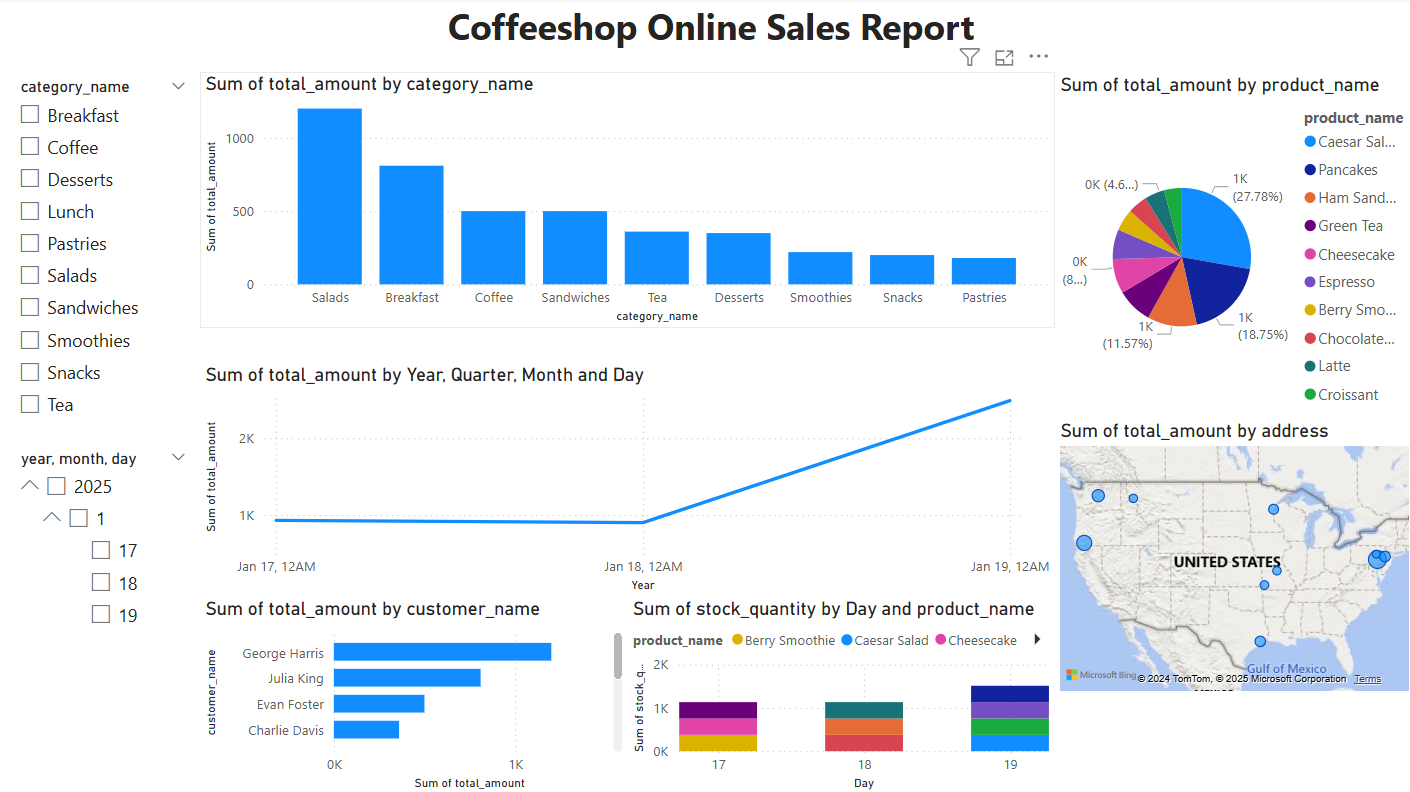

Layout of this report page (visuals, bound fields, positions):
{"tool":"powerbi","page":{"name":"Page 1","canvas":[1280,720],"ordinal":0},"visuals":[{"type":"textbox","box":[9.6,0,1270.7,67.2],"z":0},{"type":"slicer","fields":{"Values":["public dim_category.category_name"]},"box":[10,67.1,174.3,335.7],"z":1000},{"type":"slicer","fields":{"Values":["public dim_date.year","public dim_date.month","public dim_date.day"]},"box":[10,402.9,174.3,200],"z":2000},{"type":"clusteredColumnChart","fields":{"Y":["public fact_sales.total_amount"],"Category":["public dim_category.category_name"]},"box":[184.3,67.1,771.4,231.4],"z":3000},{"type":"lineChart","fields":{"Y":["public fact_sales.total_amount"],"Category":["public dim_date.date.Variation.Date Hierarchy.Year","public dim_date.date.Variation.Date Hierarchy.Quarter","public dim_date.date.Variation.Date Hierarchy.Month","public dim_date.date.Variation.Date Hierarchy.Day"]},"box":[184.3,330,771.4,211.4],"z":4000},{"type":"pieChart","fields":{"Y":["public fact_sales.total_amount"],"Category":["public dim_product.product_name"]},"box":[955.7,68.6,324.3,312.9],"z":5000},{"type":"clusteredBarChart","fields":{"Y":["public fact_sales.total_amount"],"Category":["public dim_customer.customer_name"]},"box":[184.3,541.4,385.7,178.6],"z":6000},{"type":"map","fields":{"Category":["public dim_customer.address"],"Size":["public fact_sales.total_amount"]},"box":[955.7,381.4,324.3,250],"z":7000},{"type":"lineStackedColumnComboChart","fields":{"Category":["public dim_date.date.Variation.Date Hierarchy.Day"],"Y":["Query1.stock_quantity"],"Series":["public dim_product.product_name"]},"box":[570,541,385,179],"z":8000}]}

Visuals, with their boxes in screenshot pixels (x1, y1, x2, y2), scaled from the page's 1280x720 canvas onto the 1410x792 screenshot:
textbox: x1=11, y1=0, x2=1409, y2=74
slicer - public dim_category.category_name: x1=11, y1=74, x2=203, y2=443
slicer - public dim_date.year x public dim_date.month: x1=11, y1=443, x2=203, y2=663
clusteredColumnChart - public fact_sales.total_amount x public dim_category.category_name: x1=203, y1=74, x2=1053, y2=328
lineChart - public fact_sales.total_amount x public dim_date.date.Variation.Date Hierarchy.Year: x1=203, y1=363, x2=1053, y2=596
pieChart - public fact_sales.total_amount x public dim_product.product_name: x1=1053, y1=75, x2=1409, y2=420
clusteredBarChart - public fact_sales.total_amount x public dim_customer.customer_name: x1=203, y1=596, x2=628, y2=791
map - public dim_customer.address x public fact_sales.total_amount: x1=1053, y1=420, x2=1409, y2=695
lineStackedColumnComboChart - public dim_date.date.Variation.Date Hierarchy.Day x Query1.stock_quantity: x1=628, y1=595, x2=1052, y2=791
